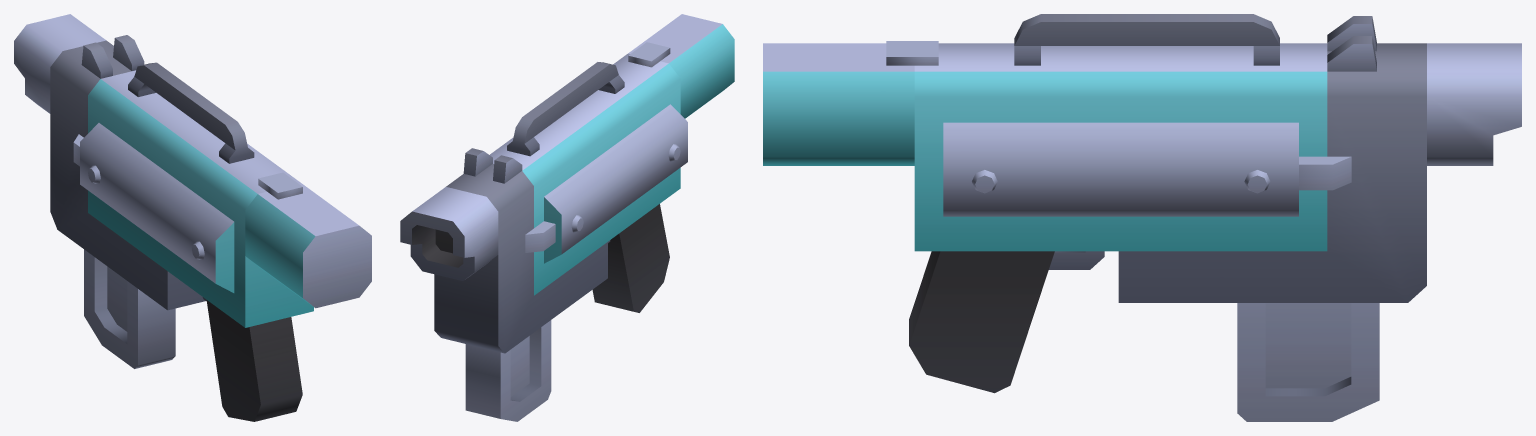
The model's file is blaster-a.glb.
3 views of the same model, side by side, from view 1: azimuth 30°, elevation 25°; view 2: azimuth 150°, elevation 25°; view 3: azimuth 270°, elevation 25° (orthographic). The views are drawn at different scales.
Parts seen in each view (by area): view 1: blaster-a, magazine; view 2: blaster-a, magazine; view 3: blaster-a, magazine.
Part boxes in pixels (x1,y1,x2,y2): blaster-a: (14,14,371,421); magazine: (84,249,175,368); blaster-a: (400,14,734,353); magazine: (465,320,551,421); blaster-a: (763,14,1521,393); magazine: (1237,303,1379,421).
Size of the model in its own units: 0.1838 by 0.4559 by 0.8.
Materials: 1 (1 with a texture image).
